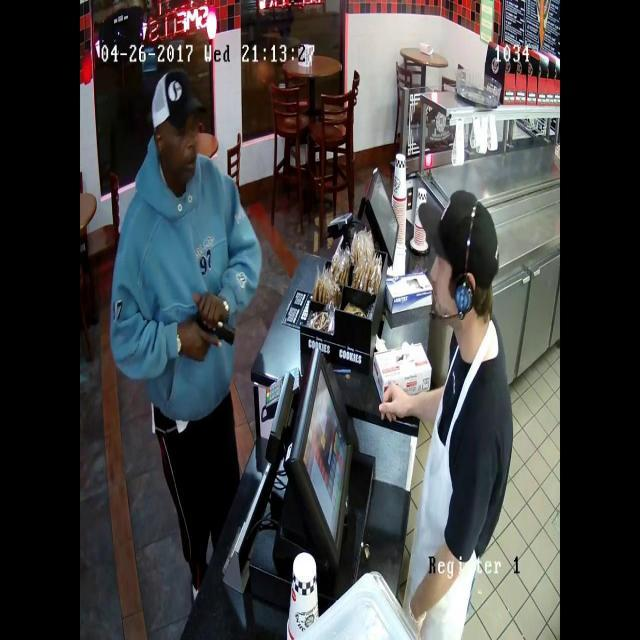weapon: (178, 301, 243, 357)
